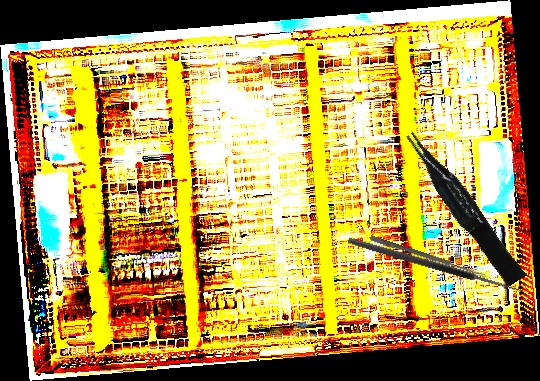Hook Surgical: (347, 227, 529, 297)
Surgical Spoon: (369, 235, 487, 279)
Tissue Forceps: (402, 122, 527, 292)
